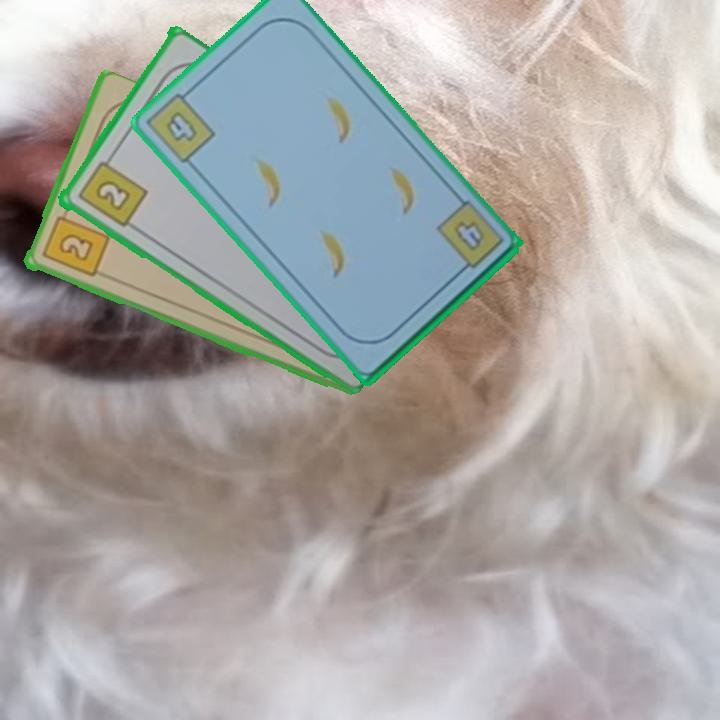2b: (73, 151, 149, 231), (38, 204, 111, 281)
4b: (142, 84, 219, 167), (449, 216, 488, 255)
